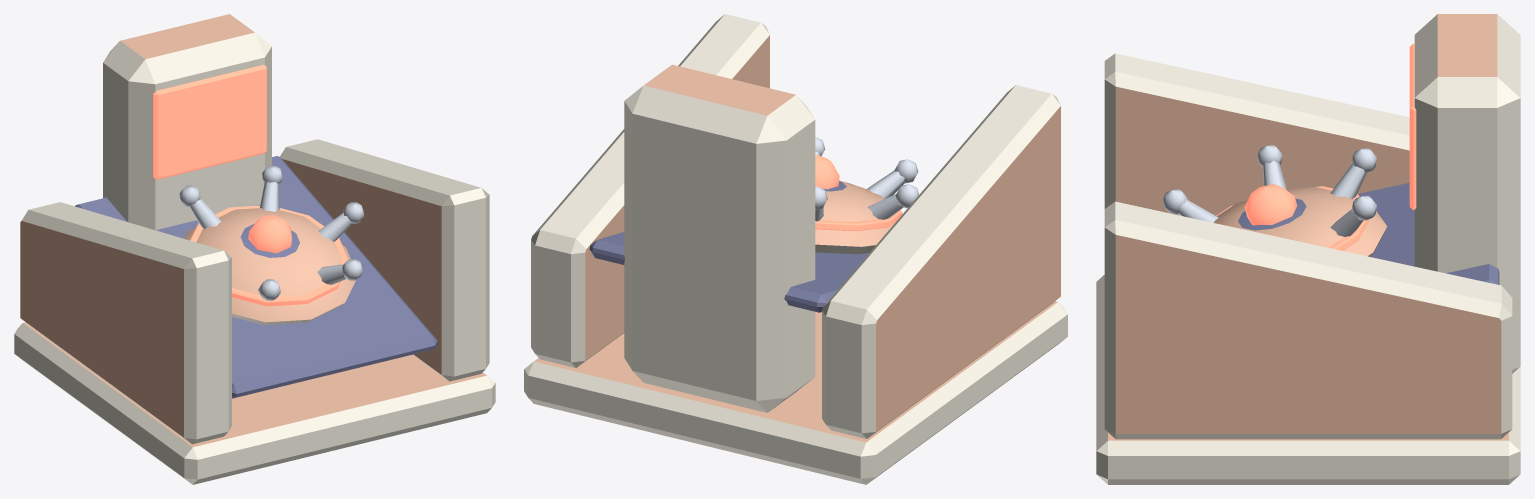
Rendered from R4X_ExplosiveTrapDeployer_LOD1.fbx.
The picture shows the model from 3 angles, left to right: view 1: azimuth 30°, elevation 25°; view 2: azimuth 150°, elevation 25°; view 3: azimuth 270°, elevation 25°; orthographic projection. The views are drawn at different scales.
Visible parts, largest first — view 1: R4X_ExplosiveTrapDeployer_LOD1; view 2: R4X_ExplosiveTrapDeployer_LOD1; view 3: R4X_ExplosiveTrapDeployer_LOD1.
Boxes of the visible parts, x1,y1,x2,y2 form: R4X_ExplosiveTrapDeployer_LOD1: (14,14,495,484); R4X_ExplosiveTrapDeployer_LOD1: (524,14,1067,484); R4X_ExplosiveTrapDeployer_LOD1: (1096,14,1520,484).
Size of the model in its own units: 0.52 by 0.48 by 0.52.
